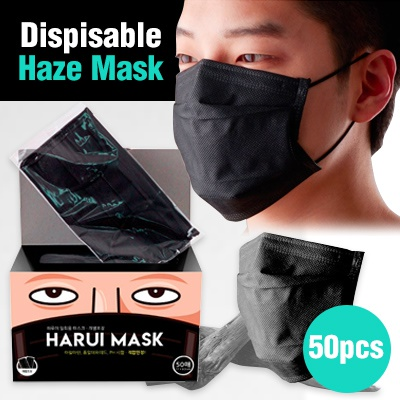Mask: (171, 2, 388, 213)
